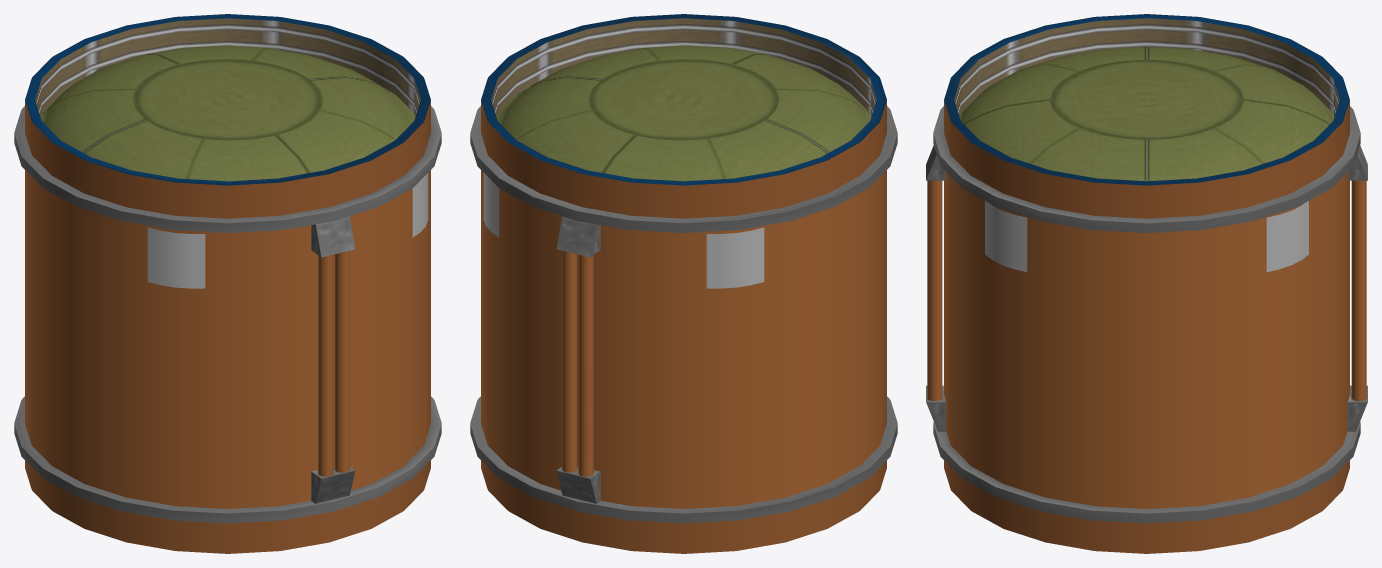
The model's file is FLM-7200L.FBX.
The picture shows the model from 3 angles, left to right: view 1: azimuth 30°, elevation 25°; view 2: azimuth 150°, elevation 25°; view 3: azimuth 270°, elevation 25°; orthographic projection.
Parts seen in each view (by area): view 1: TankBody, EndCap001, TankSleeve001, TankSleeve002, BarrelBand003, BarrelBand002, FuelPipe001, FuelPipe002, decalPanel002, FuelPlug001, FuelPlug002, decalPanel001; view 2: TankBody, EndCap001, TankSleeve001, TankSleeve002, BarrelBand003, BarrelBand002, FuelPipe003, FuelPipe004, decalPanel003, FuelPlug003, FuelPlug004, decalPanel004; view 3: TankBody, EndCap001, TankSleeve001, TankSleeve002, BarrelBand003, BarrelBand002, FuelPipe002, FuelPipe004, decalPanel001, decalPanel004, FuelPlug002, FuelPlug004.
Boxes of the visible parts, x1=… form: TankBody: x1=25, y1=170, x2=430, y2=508; EndCap001: x1=40, y1=45, x2=415, y2=181; TankSleeve001: x1=25, y1=14, x2=430, y2=218; TankSleeve002: x1=25, y1=460, x2=430, y2=553; BarrelBand003: x1=14, y1=106, x2=441, y2=232; BarrelBand002: x1=14, y1=396, x2=441, y2=523; FuelPipe001: x1=318, y1=254, x2=333, y2=476; FuelPipe002: x1=334, y1=250, x2=349, y2=472; decalPanel002: x1=147, y1=227, x2=205, y2=288; FuelPlug001: x1=311, y1=216, x2=355, y2=257; FuelPlug002: x1=311, y1=466, x2=355, y2=503; decalPanel001: x1=412, y1=173, x2=428, y2=237; TankBody: x1=481, y1=170, x2=886, y2=508; EndCap001: x1=496, y1=45, x2=871, y2=181; TankSleeve001: x1=481, y1=14, x2=886, y2=218; TankSleeve002: x1=481, y1=460, x2=886, y2=553; BarrelBand003: x1=470, y1=106, x2=897, y2=232; BarrelBand002: x1=470, y1=396, x2=897, y2=523; FuelPipe003: x1=578, y1=254, x2=593, y2=476; FuelPipe004: x1=562, y1=250, x2=577, y2=472; decalPanel003: x1=706, y1=227, x2=764, y2=288; FuelPlug003: x1=556, y1=216, x2=600, y2=257; FuelPlug004: x1=556, y1=466, x2=600, y2=503; decalPanel004: x1=483, y1=173, x2=499, y2=237; TankBody: x1=944, y1=172, x2=1349, y2=508; EndCap001: x1=959, y1=46, x2=1334, y2=181; TankSleeve001: x1=944, y1=14, x2=1349, y2=218; TankSleeve002: x1=944, y1=460, x2=1349, y2=553; BarrelBand003: x1=933, y1=106, x2=1360, y2=232; BarrelBand002: x1=933, y1=421, x2=1360, y2=523; FuelPipe002: x1=927, y1=180, x2=942, y2=400; FuelPipe004: x1=1351, y1=180, x2=1366, y2=400; decalPanel001: x1=985, y1=201, x2=1027, y2=272; decalPanel004: x1=1266, y1=201, x2=1308, y2=272; FuelPlug002: x1=926, y1=385, x2=946, y2=431; FuelPlug004: x1=1347, y1=385, x2=1367, y2=431.
Size of what is drawn, in the model's own units: 3.95 by 4.08 by 3.75.
